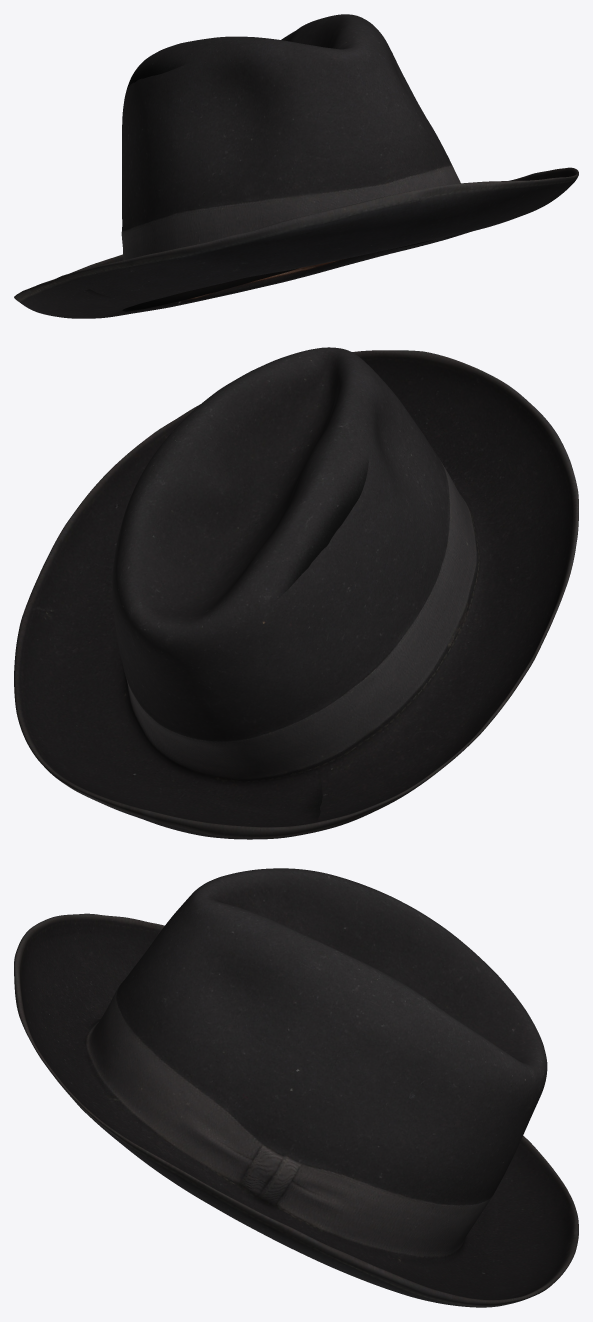
The model's file is hatDraco.glb.
3 renders of one model, top to bottom at view 1: azimuth 30°, elevation 25°; view 2: azimuth 150°, elevation 25°; view 3: azimuth 270°, elevation 25°, orthographic. The views are drawn at different scales.
Parts seen in each view (by area): view 1: Kapelusz_Karola_Wojtyly_defaultMat_0; view 2: Kapelusz_Karola_Wojtyly_defaultMat_0; view 3: Kapelusz_Karola_Wojtyly_defaultMat_0.
Boxes of the visible parts, left/top/right/bottom form: Kapelusz_Karola_Wojtyly_defaultMat_0: left=14, top=14, right=578, bottom=318; Kapelusz_Karola_Wojtyly_defaultMat_0: left=14, top=347, right=578, bottom=839; Kapelusz_Karola_Wojtyly_defaultMat_0: left=14, top=868, right=578, bottom=1307.
Size of the model in its own units: 363 by 255 by 360.
1 material, 1 textured.
